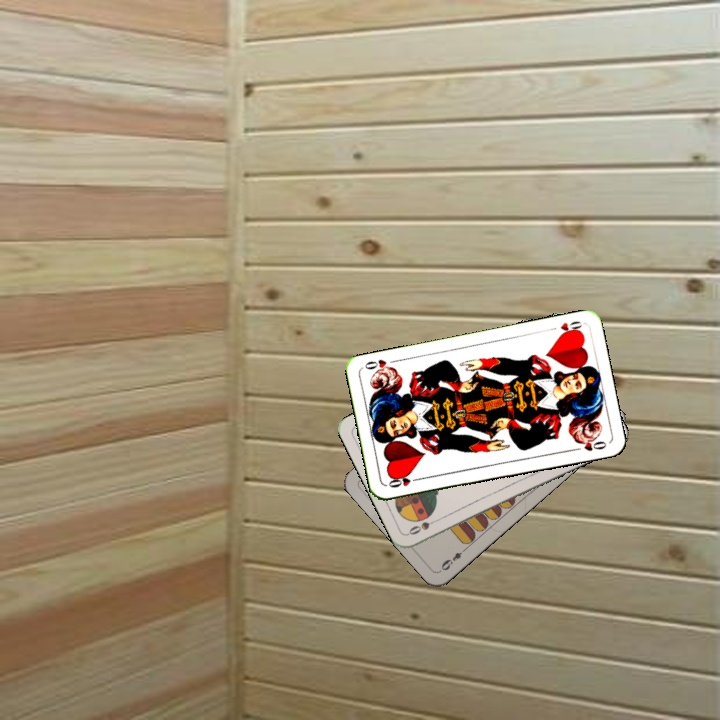E9: (437, 543, 470, 573)
HO: (545, 317, 584, 338), (384, 472, 424, 490)
SO: (404, 514, 443, 538)
